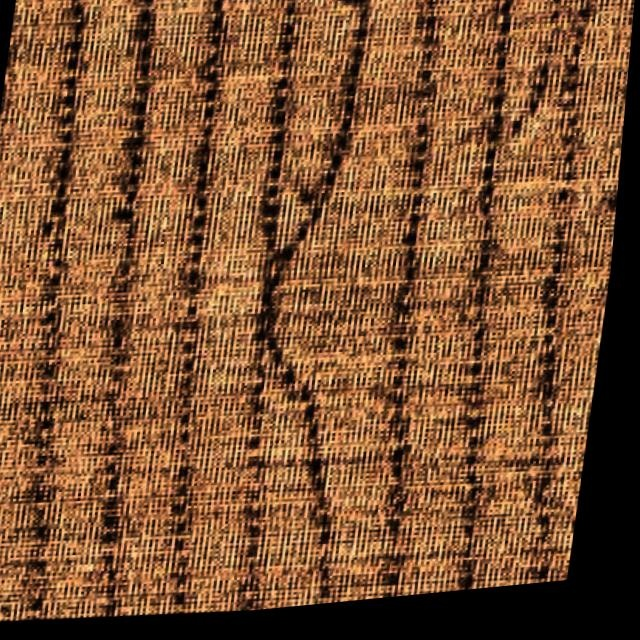Stitch: (176, 3, 433, 491)
